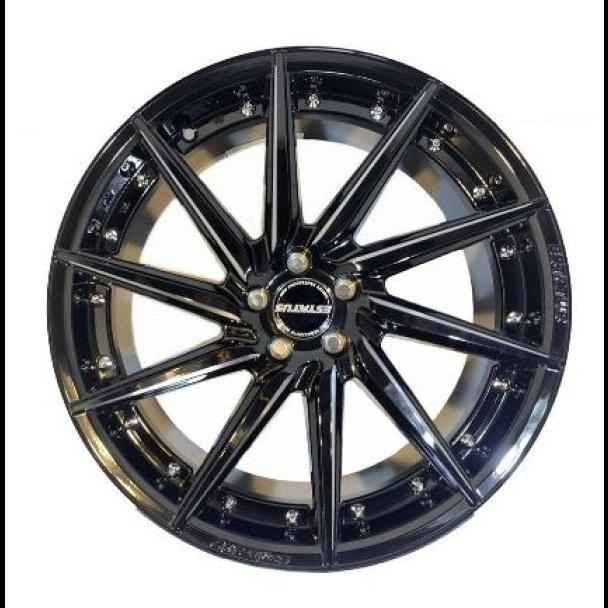hole: (319, 328, 349, 358), (263, 334, 294, 363), (329, 272, 360, 301), (283, 245, 312, 275), (242, 285, 270, 313)
